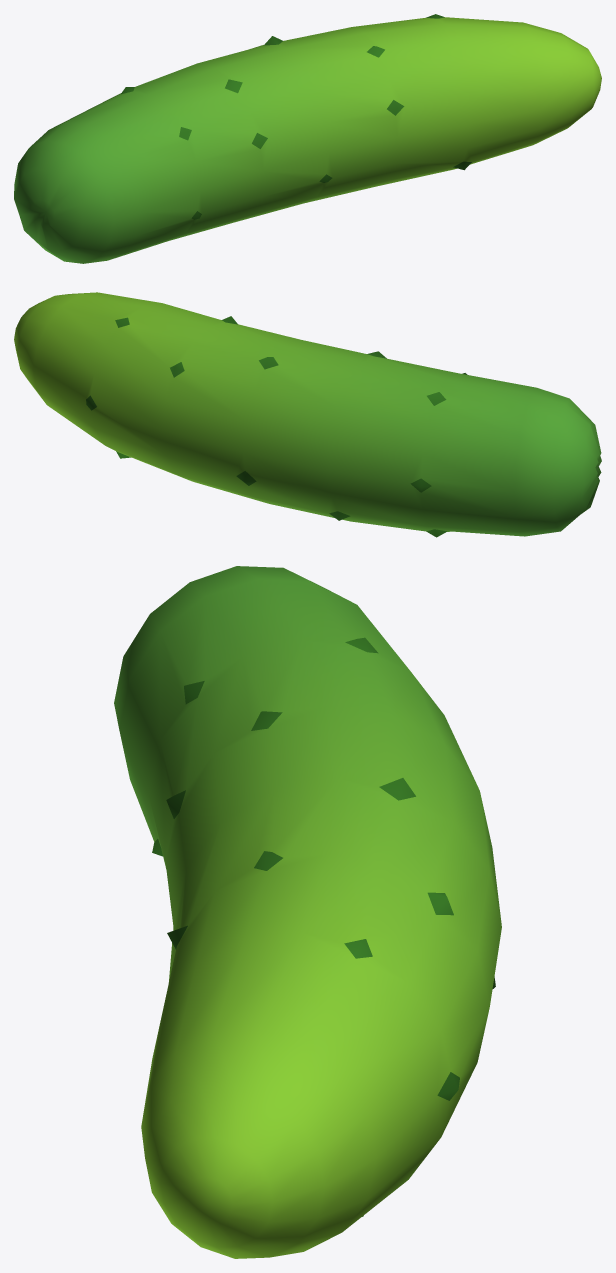
The model's file is Cucumber.fbx.
3 renders of one model, top to bottom at view 1: azimuth 30°, elevation 25°; view 2: azimuth 150°, elevation 25°; view 3: azimuth 270°, elevation 25°, orthographic. The views are drawn at different scales.
Parts seen in each view (by area): view 1: Cucumber; view 2: Cucumber; view 3: Cucumber.
Part boxes in pixels (left/top/right/bottom): Cucumber: left=14, top=14, right=601, bottom=263; Cucumber: left=14, top=292, right=601, bottom=537; Cucumber: left=114, top=566, right=501, bottom=1258.
Bounding box in the file's own units: 1.37 × 0.3549 × 0.4057.
Materials: 1 (1 with a texture image).
